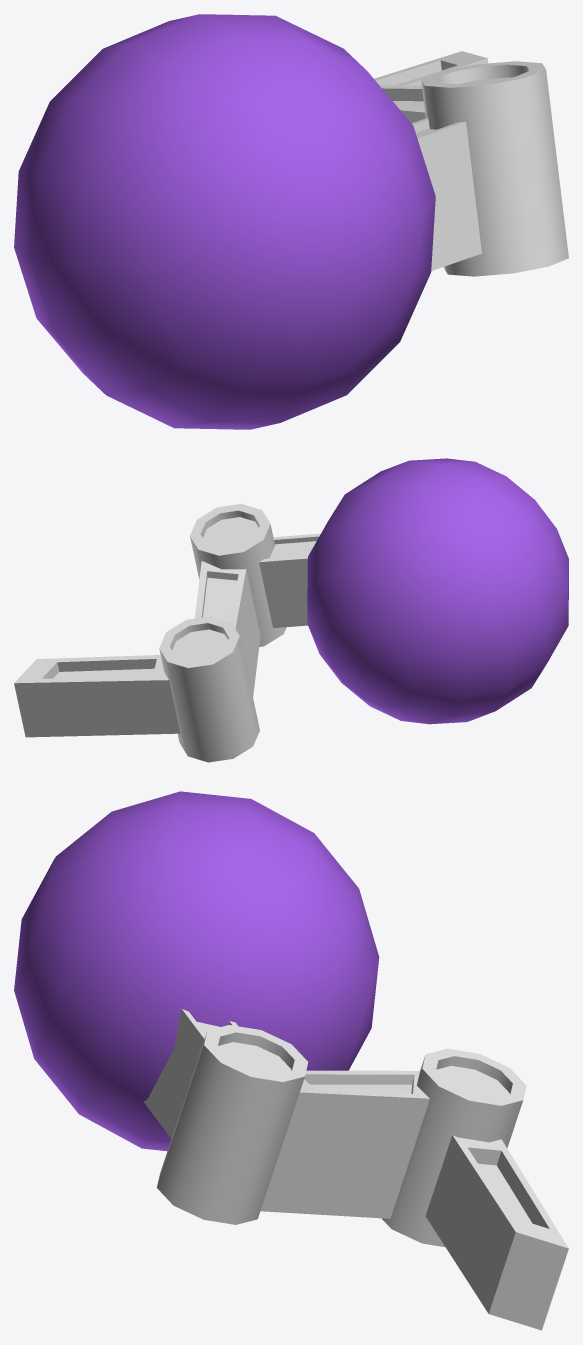
Rendered from circle cryochamber broken.fbx.
The picture shows the model from 3 angles, top to bottom: view 1: azimuth 30°, elevation 25°; view 2: azimuth 150°, elevation 25°; view 3: azimuth 270°, elevation 25°; orthographic projection. The views are drawn at different scales.
Parts seen in each view (by area): view 1: circle cryochamber broken; view 2: circle cryochamber broken; view 3: circle cryochamber broken.
Part boxes in pixels (box(x1,y1,x2,y2)): circle cryochamber broken: box(14, 14, 568, 429); circle cryochamber broken: box(14, 458, 568, 762); circle cryochamber broken: box(14, 791, 568, 1330).
Bounding box in the file's own units: 421 × 246 × 368.
